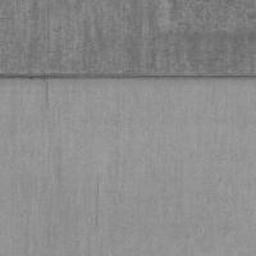Welding line: (0, 73, 256, 82)
